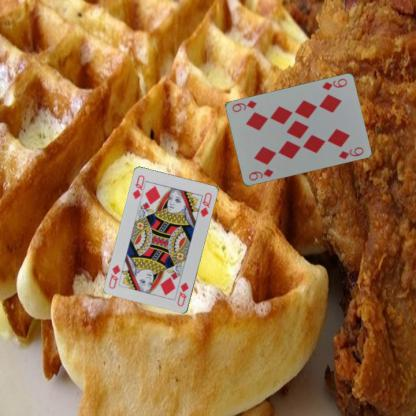9d: (246, 166, 275, 182), (320, 76, 349, 92)
Qd: (130, 173, 147, 203), (175, 280, 190, 308)
